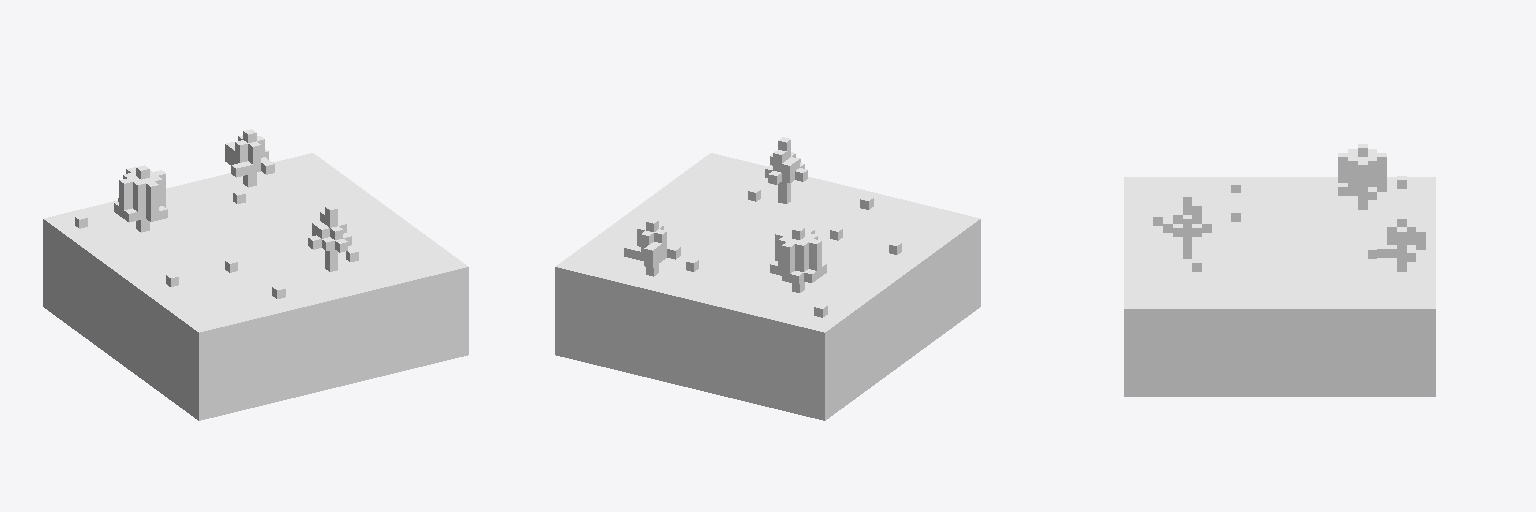
File: RoadStraightTile2.obj
The picture shows the model from 3 angles: view 1: azimuth 30°, elevation 25°; view 2: azimuth 150°, elevation 25°; view 3: azimuth 270°, elevation 25°; orthographic projection.
Visible parts, largest first — view 1: object 1; view 2: object 1; view 3: object 1.
Part boxes in pixels (x1,y1,x2,y2): object 1: (43, 129, 468, 420); object 1: (555, 137, 980, 420); object 1: (1124, 144, 1435, 396).
Bounding box in the file's own units: 3.2 × 1.7 × 3.2.